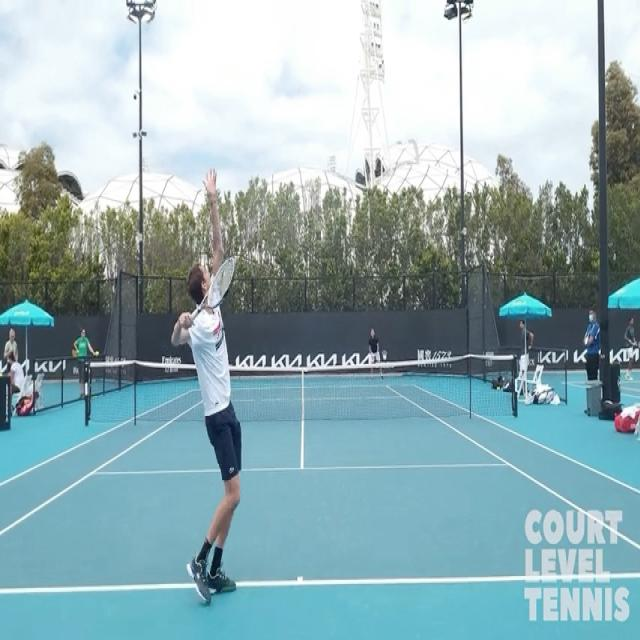serve_hit: (146, 170, 272, 605)
